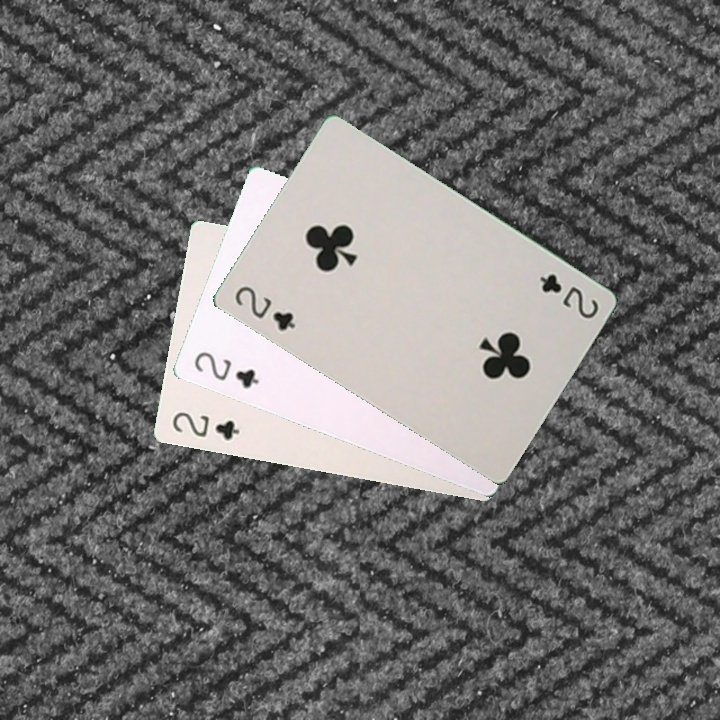2c: (230, 281, 298, 334), (535, 270, 602, 322), (190, 347, 262, 391), (168, 407, 242, 443)
